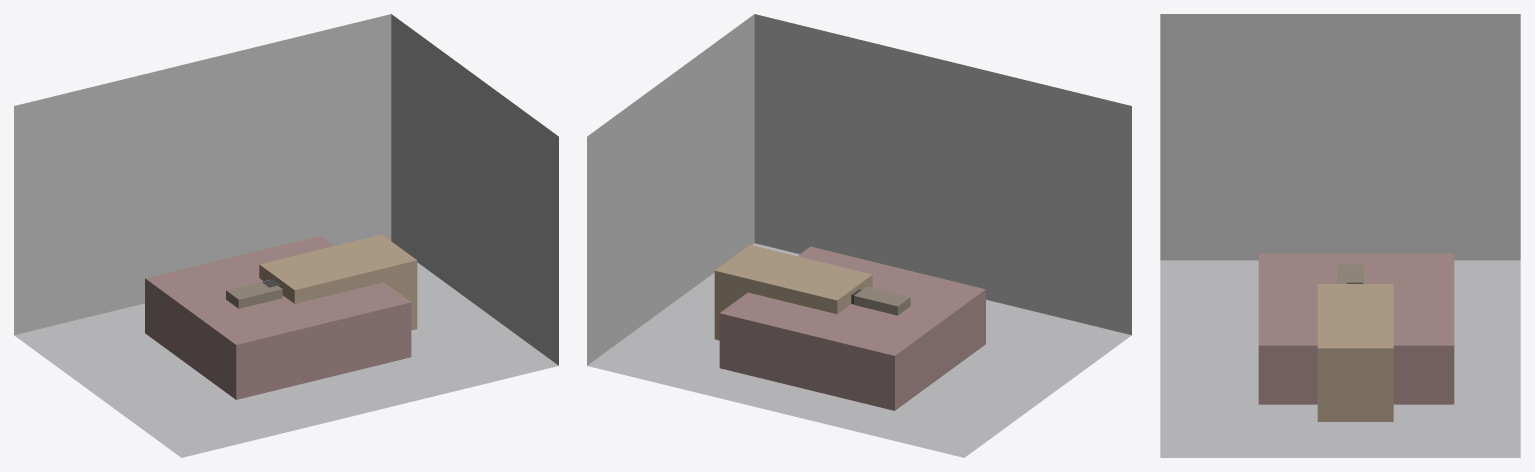
The model's file is optimised_layout.glb.
3 views of the same model, side by side, from view 1: azimuth 30°, elevation 25°; view 2: azimuth 150°, elevation 25°; view 3: azimuth 270°, elevation 25° (orthographic). The views are drawn at different scales.
Parts seen in each view (by area): view 1: room, bed, desk, suitcase; view 2: room, bed, desk, suitcase; view 3: room, bed, desk, suitcase.
Part boxes in pixels (left/top/right/bottom): room: left=14, top=14, right=558, bottom=457; bed: left=145, top=235, right=411, bottom=399; desk: left=259, top=234, right=417, bottom=330; suitcase: left=226, top=280, right=282, bottom=308; room: left=587, top=14, right=1131, bottom=457; bed: left=719, top=246, right=985, bottom=410; desk: left=714, top=244, right=872, bottom=340; suitcase: left=854, top=286, right=910, bottom=315; room: left=1160, top=14, right=1520, bottom=457; bed: left=1258, top=253, right=1454, bottom=404; desk: left=1317, top=284, right=1393, bottom=421; suitcase: left=1337, top=264, right=1363, bottom=283.
Bounding box in the file's own units: 4.31 × 2.5 × 3.31.
